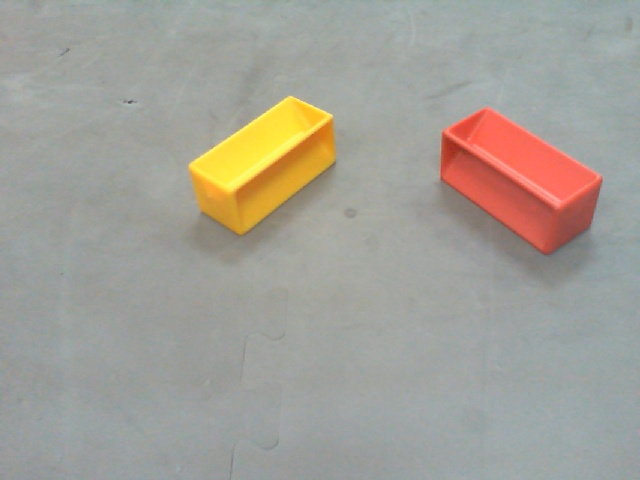RedSample: (439, 107, 604, 254)
YellowSample: (192, 95, 333, 233)
